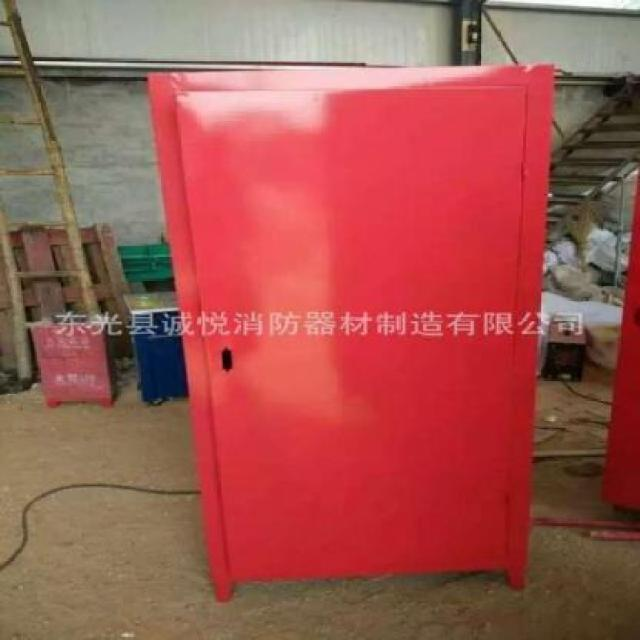firehydrant: (143, 57, 559, 608)
